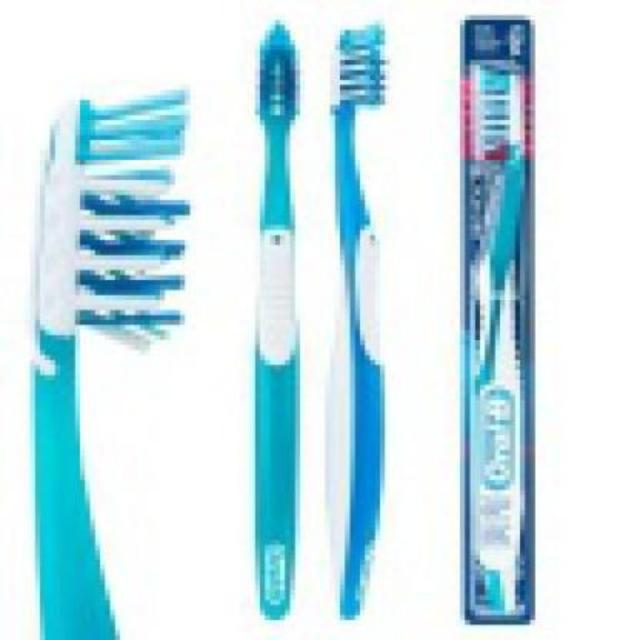toothbrush: (28, 74, 202, 636), (324, 21, 406, 625), (234, 12, 312, 636)
